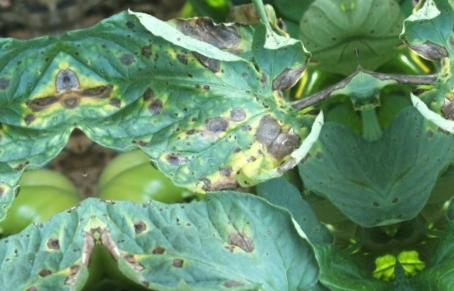Tomato Early blight leaf: (61, 0, 346, 217)
